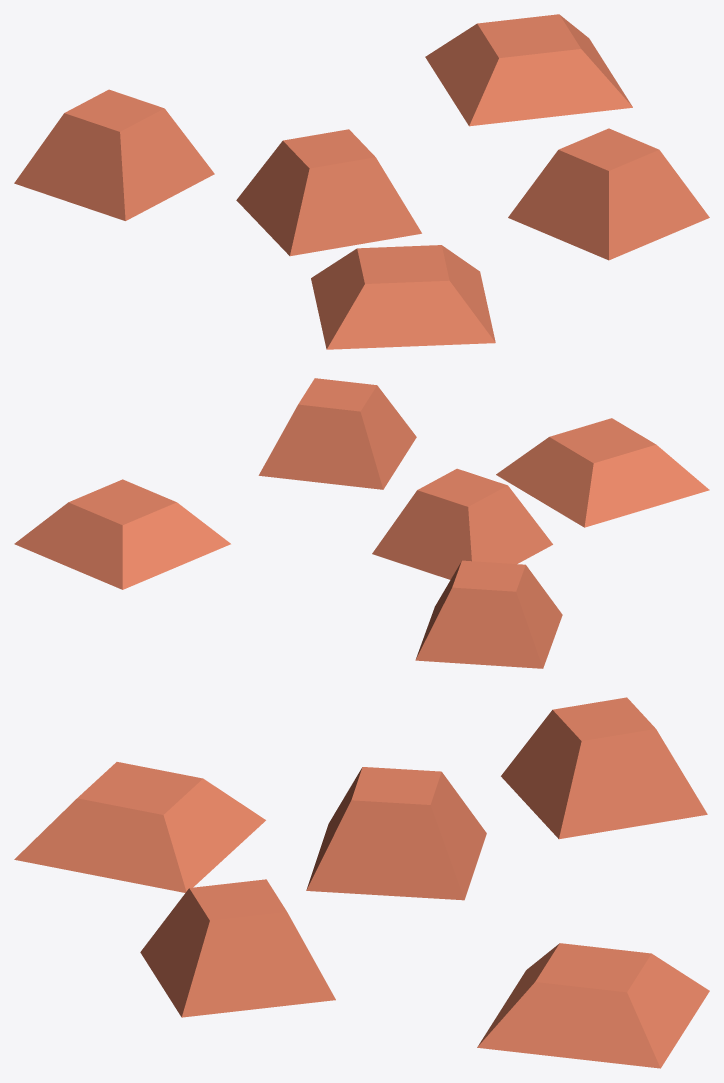
File: rocks_smallA.obj
The picture shows the model from 3 angles, top to bottom: view 1: azimuth 30°, elevation 25°; view 2: azimuth 150°, elevation 25°; view 3: azimuth 270°, elevation 25°; orthographic projection. The views are drawn at different scales.
Visible parts, largest first — view 1: rocks_smallA; view 2: rocks_smallA; view 3: rocks_smallA.
Boxes of the visible parts, <box> form: rocks_smallA: <box>14,14,709,349</box>; rocks_smallA: <box>14,378,709,668</box>; rocks_smallA: <box>14,697,709,1068</box>.
Size of the model in its own units: 0.9372 by 0.1051 by 0.8698.
